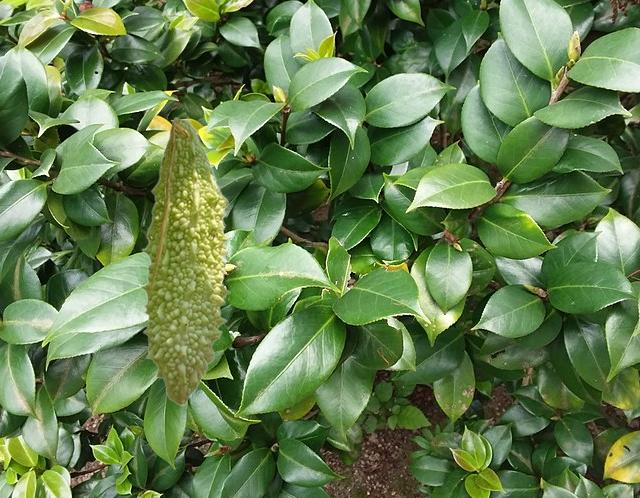ampalaya: (137, 115, 232, 407)
